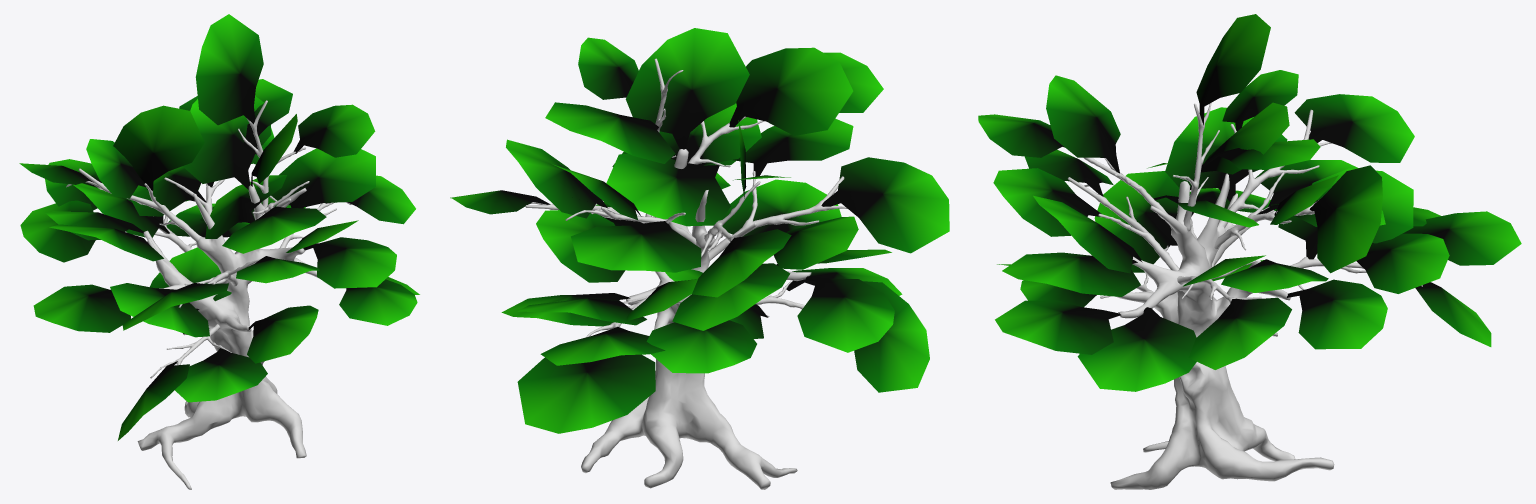
Rendered from tree_2_large.glb.
3 renders of one model, left to right at view 1: azimuth 30°, elevation 25°; view 2: azimuth 150°, elevation 25°; view 3: azimuth 270°, elevation 25°, orthographic. The views are drawn at different scales.
Visible parts, largest first — view 1: tree_2_large; view 2: tree_2_large; view 3: tree_2_large.
Boxes of the visible parts, left/top/right/bottom form: tree_2_large: left=19, top=14, right=419, bottom=489; tree_2_large: left=450, top=28, right=949, bottom=489; tree_2_large: left=978, top=14, right=1521, bottom=489.
Bounding box in the file's own units: 5.08 × 5.43 × 5.59.
